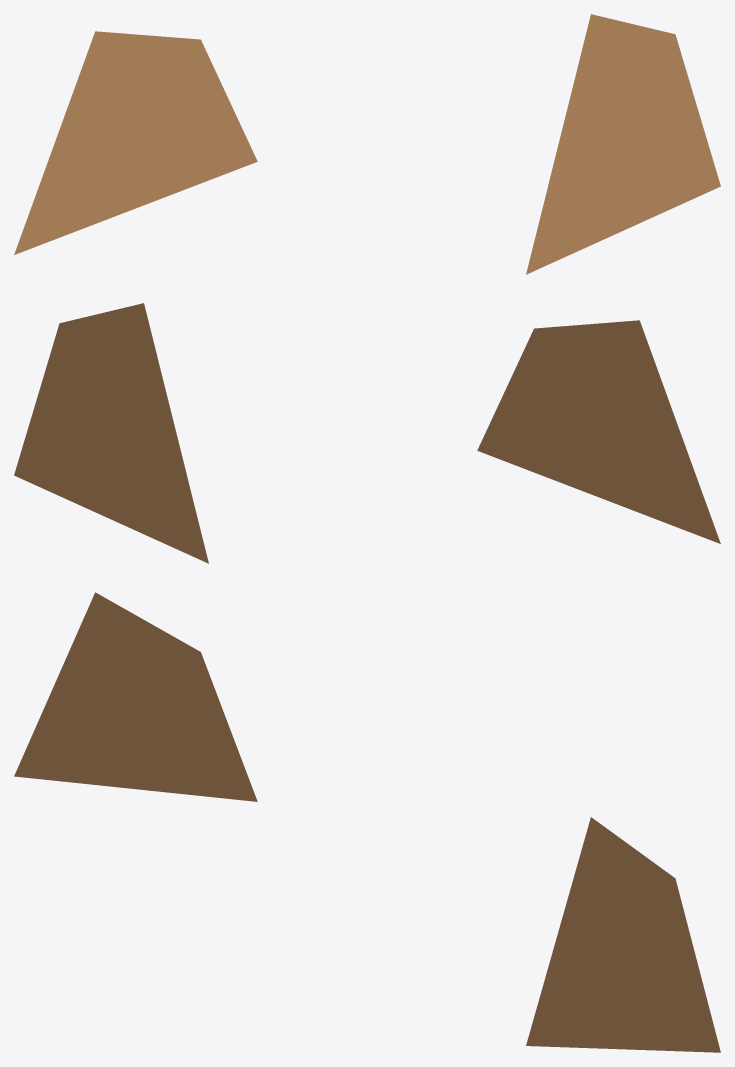
Rendered from interleaved-instanced-lines.glb.
3 renders of one model, top to bottom at view 1: azimuth 30°, elevation 25°; view 2: azimuth 150°, elevation 25°; view 3: azimuth 330°, elevation 25°, orthographic.
Size of the model in its own units: 8.7 by 4.1 by 0.
